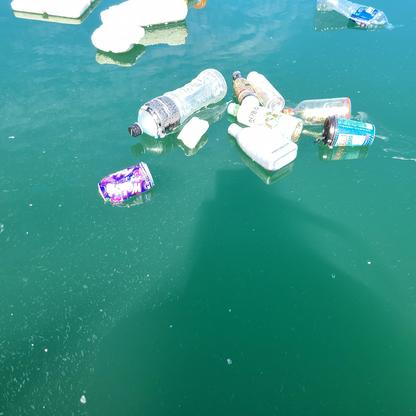can: (98, 160, 155, 202)
foam: (179, 118, 210, 146)
plastic bottle: (126, 68, 226, 140), (226, 101, 302, 140), (315, 2, 394, 31), (101, 1, 188, 23), (284, 95, 356, 121), (89, 20, 145, 53), (248, 65, 284, 108), (11, 1, 96, 19), (233, 69, 254, 104)
